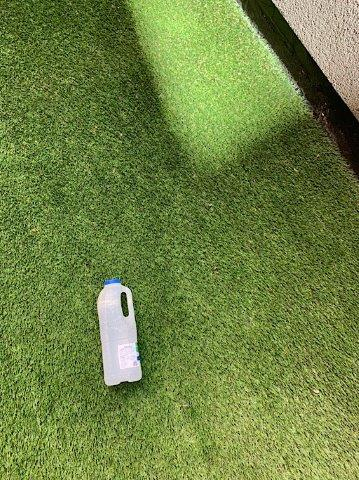botolplastik: (99, 280, 142, 384)
